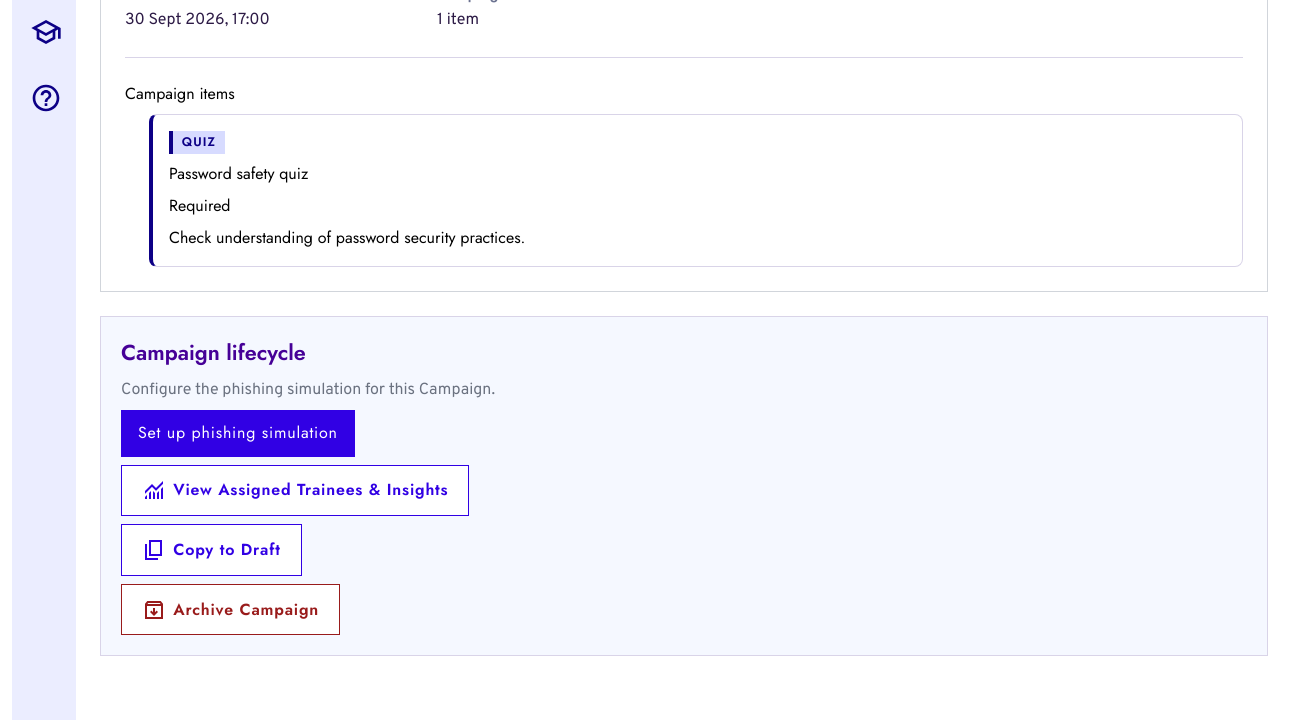
CampaignManagementDetailPage activation › opens the selected Organisation Campaign statistics page with list navigation
(page scrolled)
Click the button "View Assigned Trainees & Insights". click: (295, 490)
box: [121, 465, 469, 516]
(page scrolled)
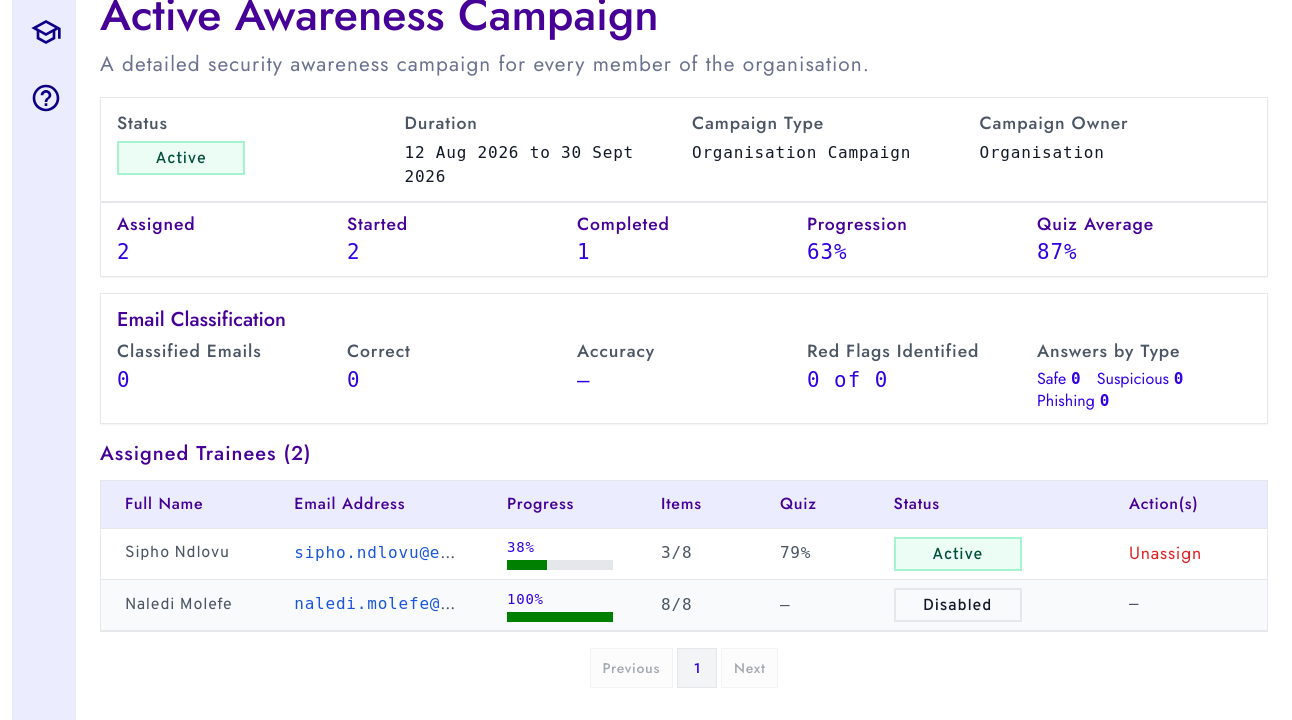
Check: the text "12 Aug 2026 to 30 Sept 2026" is shown, box [404, 143, 634, 186]
Check: the text "Organisation" is shown, box [980, 143, 1105, 162]
Check: the text "2" is shown 2 times, box [117, 240, 131, 264]; [347, 240, 361, 264]
